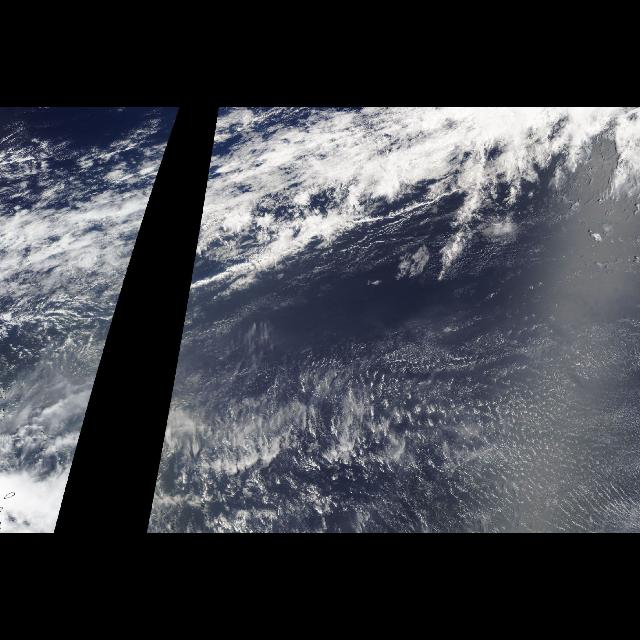Sugar: (247, 313, 639, 533)
